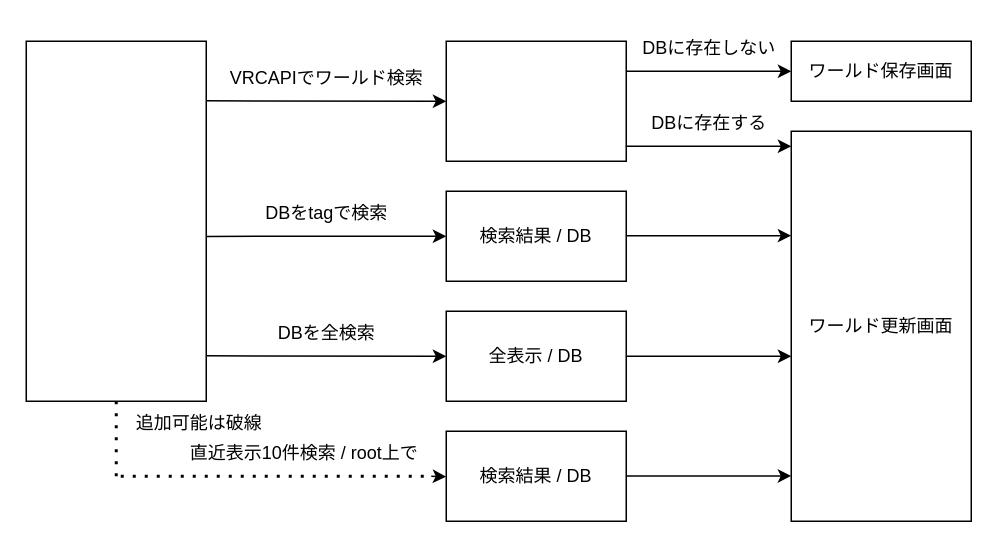
Some shapes in this 998 by 548 pixel diagram are drawn without their labels. Each missing label, with the centre of its shape:
"root" belongs at point (115, 220).
"検索結果 / API" belongs at point (535, 100).
